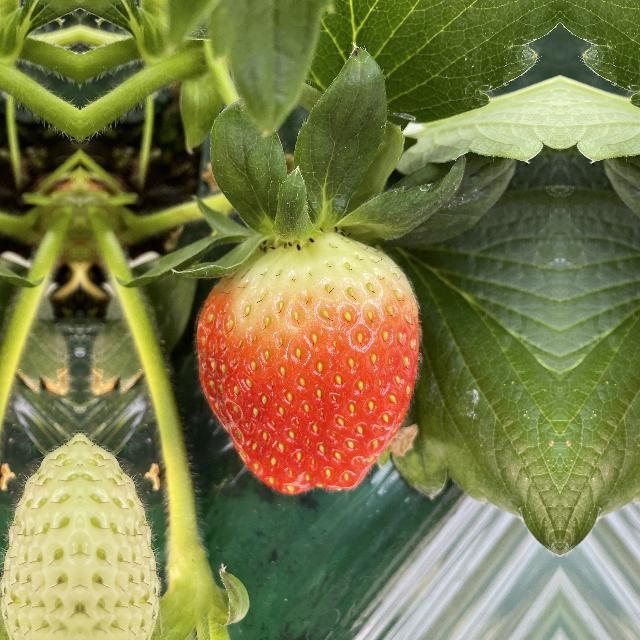Health_100: (193, 228, 429, 500)
